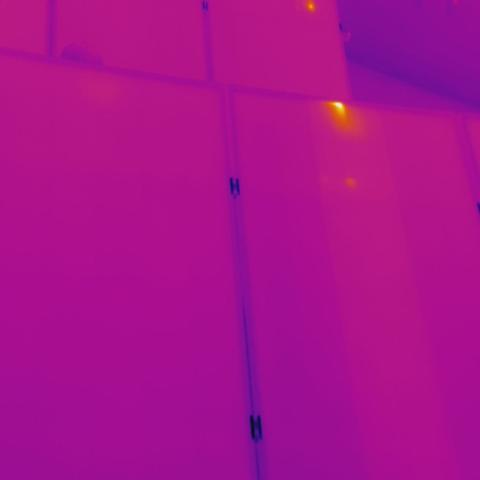fault: (322, 97, 358, 133)
